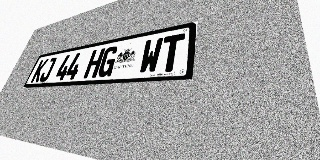4: (64, 52, 85, 80), (54, 54, 74, 81)
G: (96, 45, 120, 77)
H: (83, 48, 105, 78)
J: (38, 57, 57, 82)
K: (30, 59, 49, 83)
T: (158, 33, 185, 73)
W: (138, 37, 164, 74)
